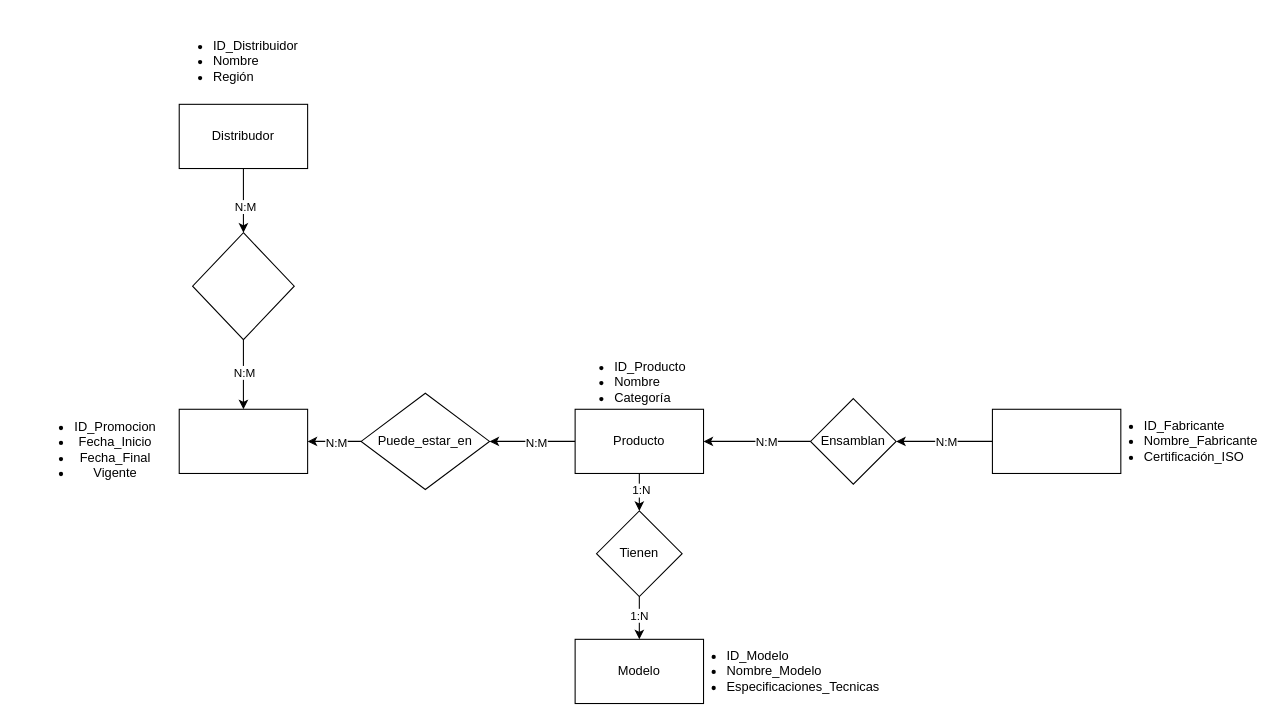
The diagram is 1275 pixels wide and 725 high, and some of its shapes have lost their labels. Here are the shapes that lost their labels. From the top down, the centre of each, then its label:
At point (243, 286): "Impulsada_por".
At point (243, 440): "Promoción".
At point (1056, 440): "Fabricante".
